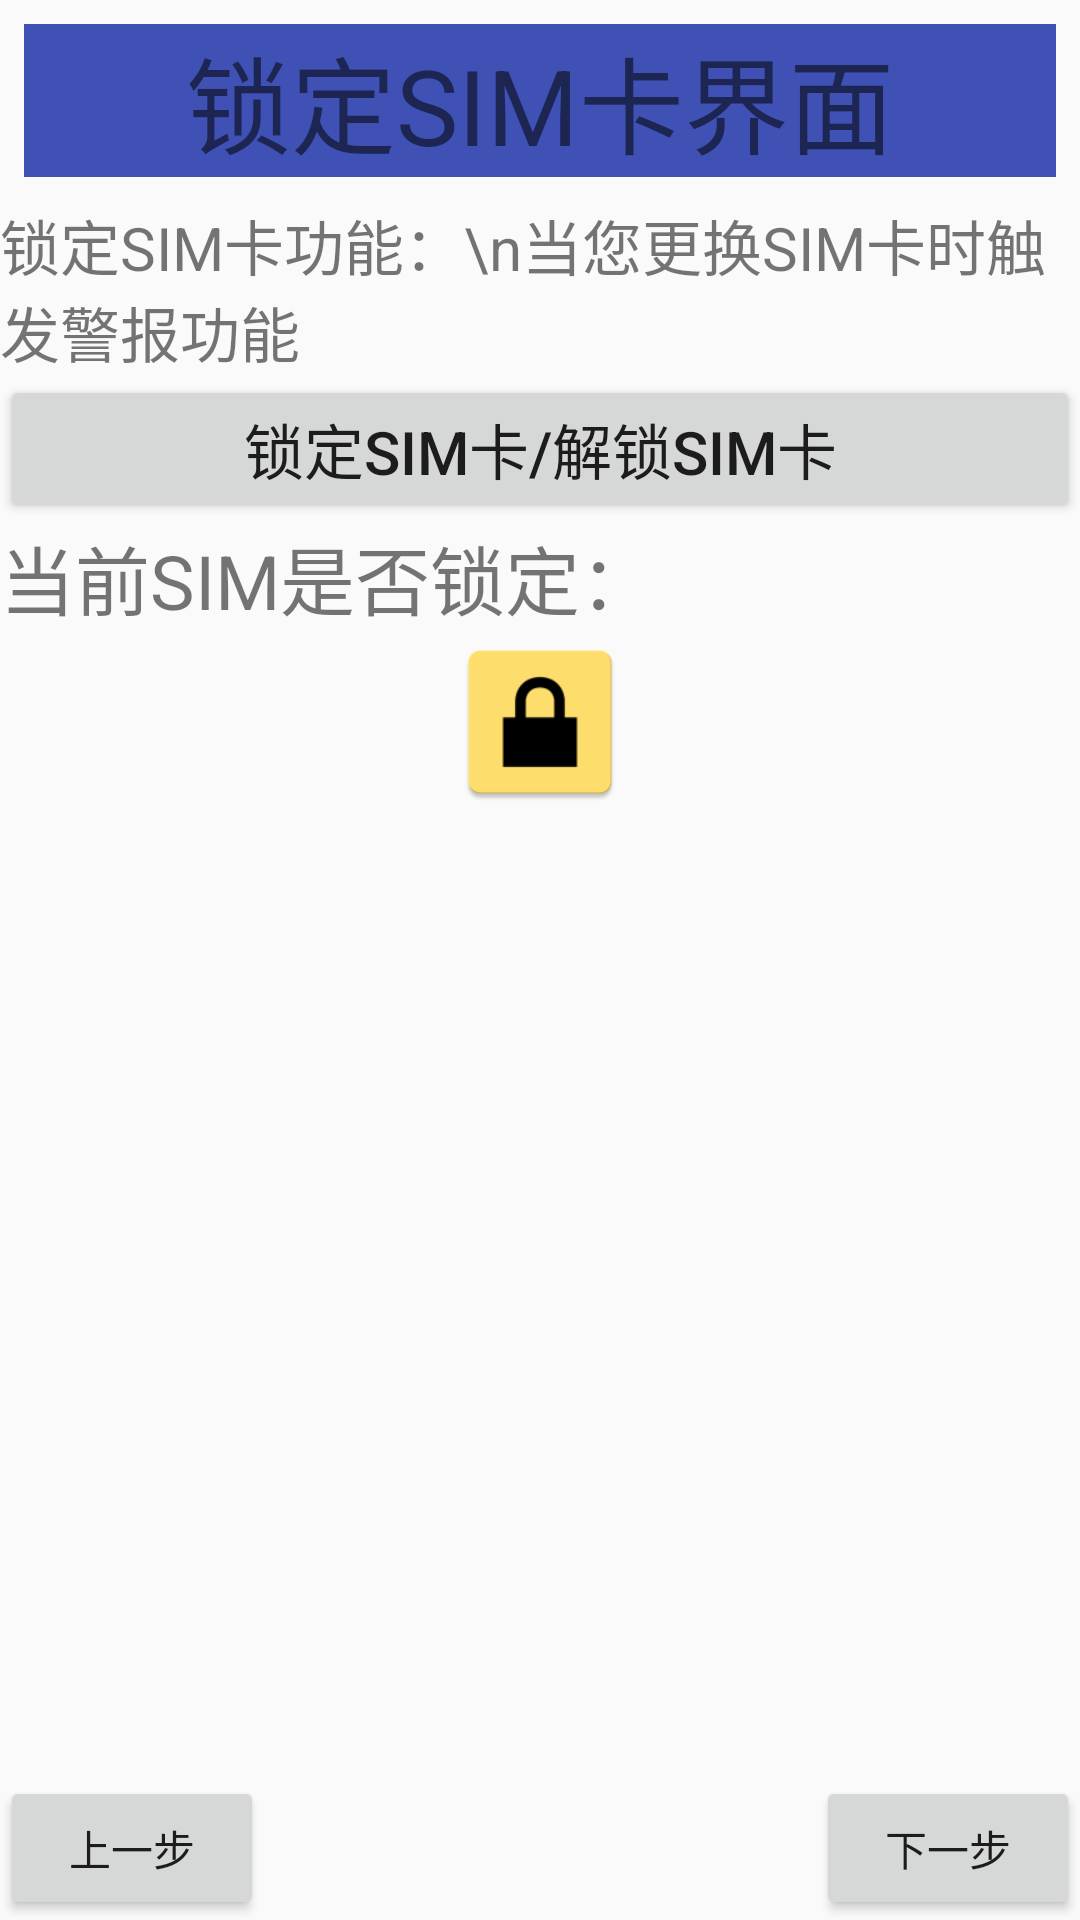

Locate icon controls on the screen. Image size 1080x1920, boxes as {"x1": x1, "y1": y1, "x2": x2, "y2": y2}.
lock: {"x1": 468, "y1": 650, "x2": 613, "y2": 798}
